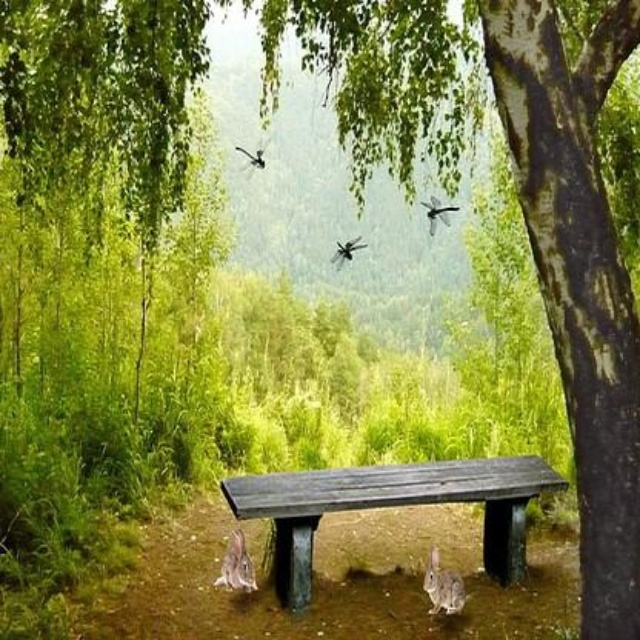obstacle: (197, 457, 560, 612)
